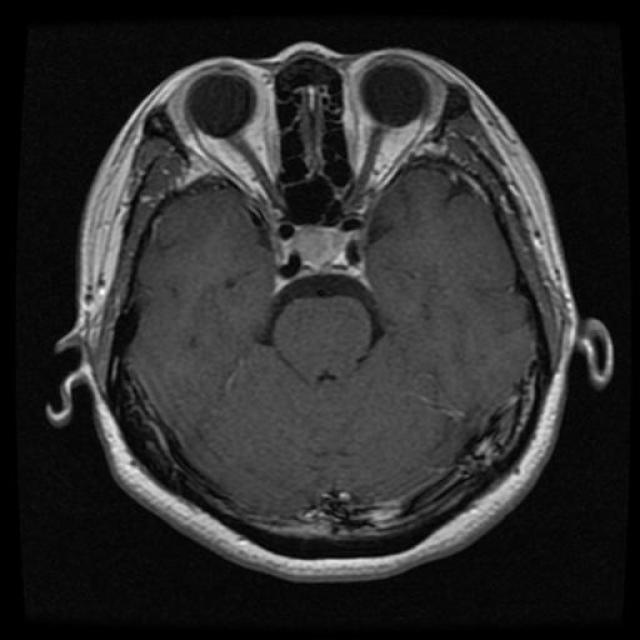pituitary: (242, 186, 383, 320)
